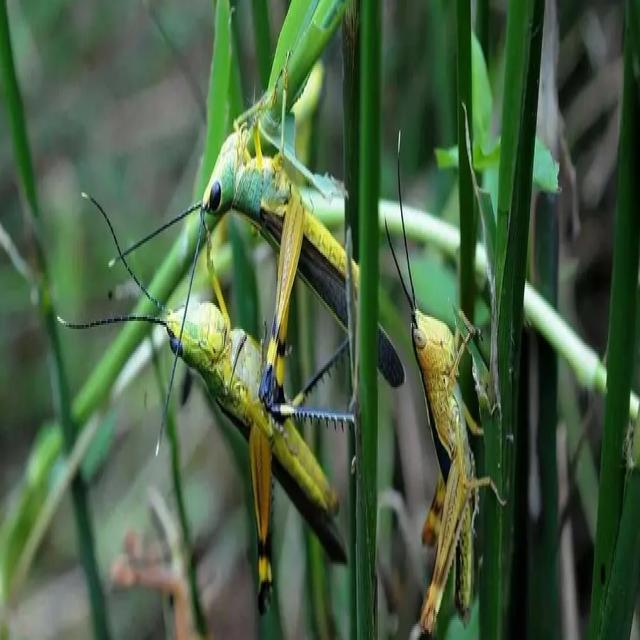ZhaMeng: (165, 68, 415, 413), (106, 275, 363, 583), (397, 278, 493, 629)
